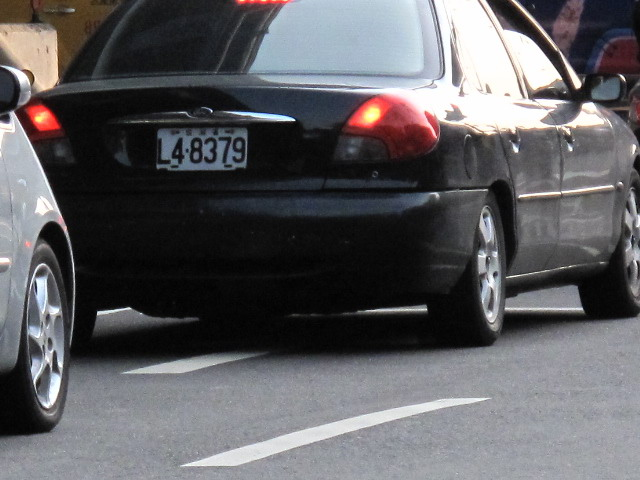plate: (153, 126, 251, 172)
